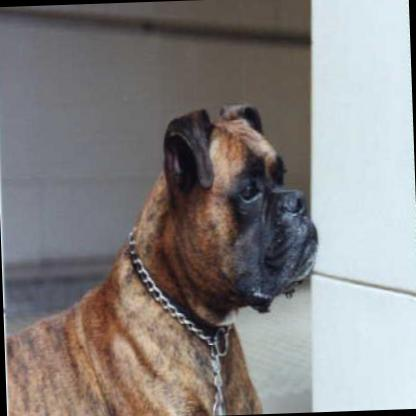boxer: (0, 93, 324, 416)
